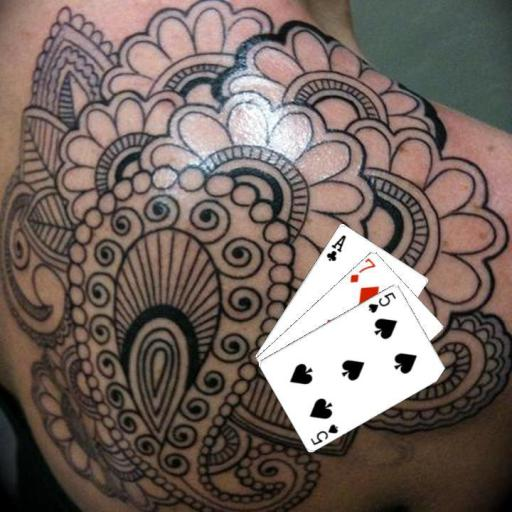5S: (307, 420, 340, 447), (365, 289, 397, 314)
7D: (346, 255, 378, 284)
AC: (323, 231, 348, 263)
